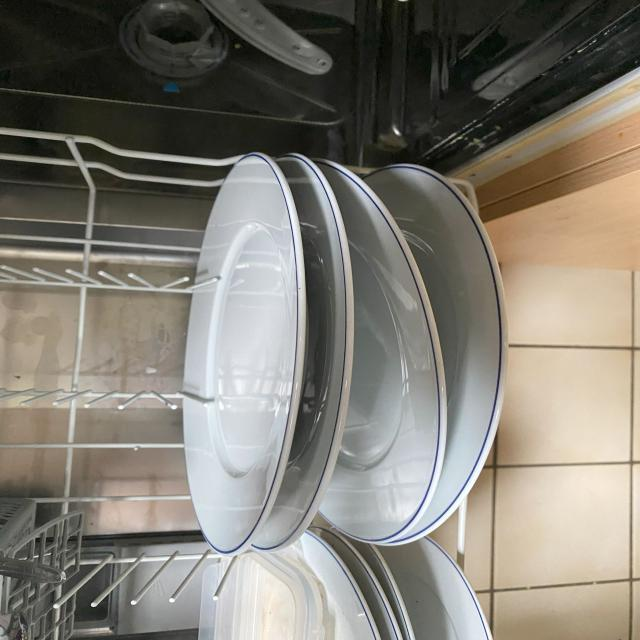empty_slot: (10, 142, 191, 484)
